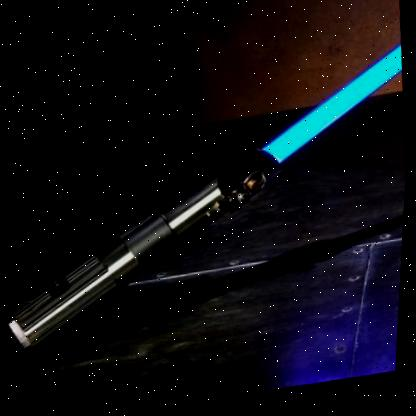lightsaber: (0, 40, 412, 364)
